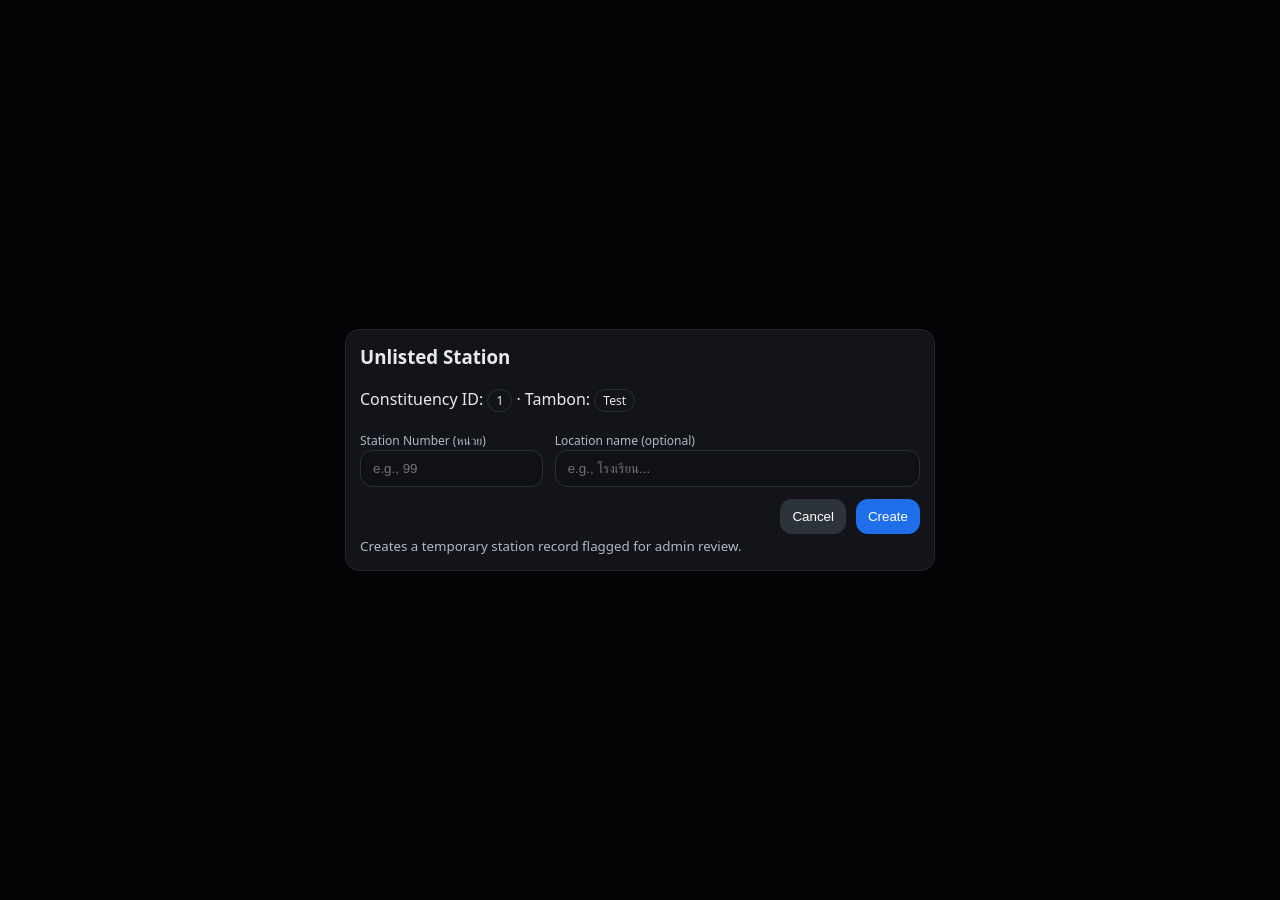
Scenario: UnlistedStationModal › should show error for invalid station number
The width and height of the screenshot is (1280, 900).
Step 1. Type "-5" into the field with placeholder "e.g., 99" → (451, 468), box [360, 450, 543, 487]
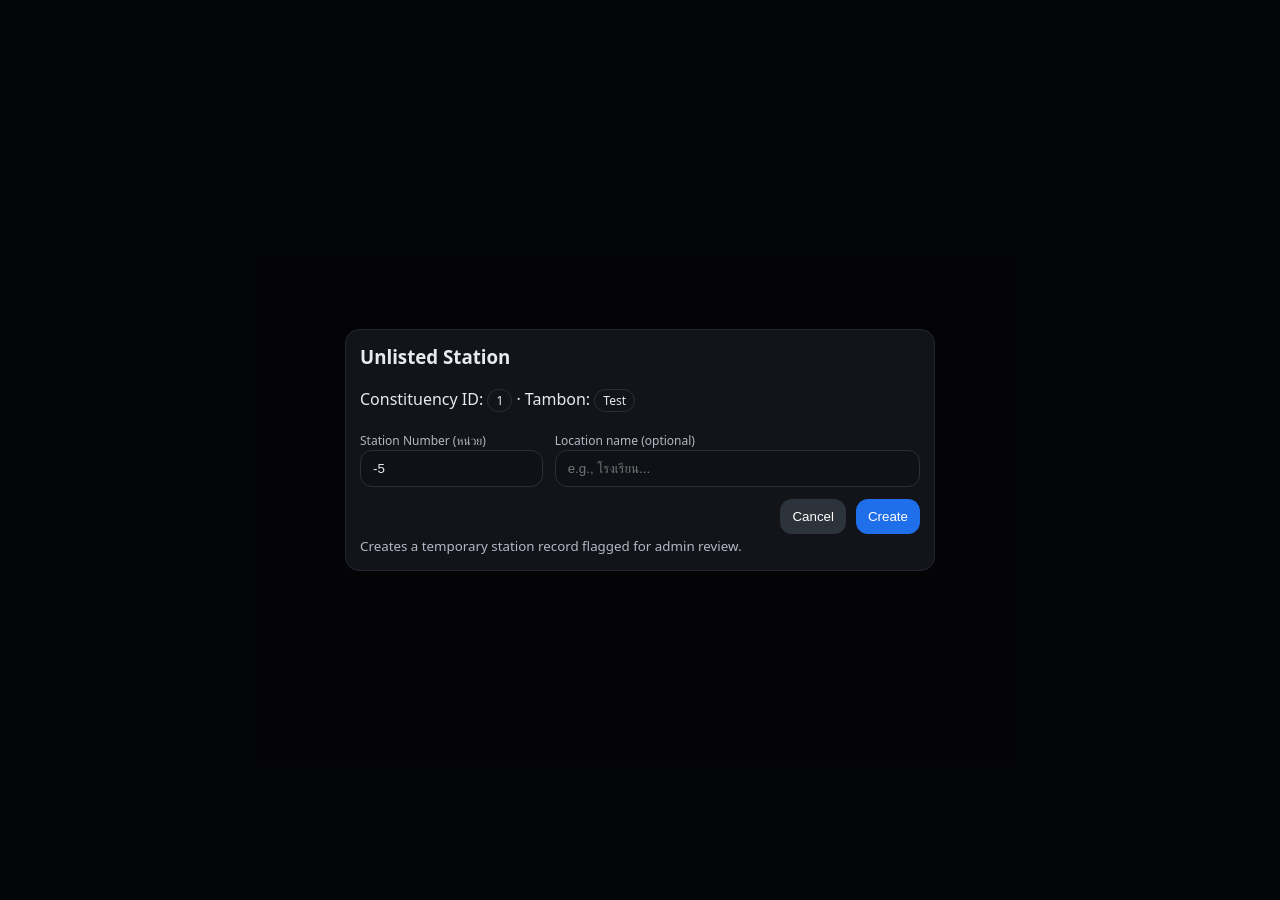
Step 2. Click the button "Create" → click(888, 516), box [856, 499, 920, 534]
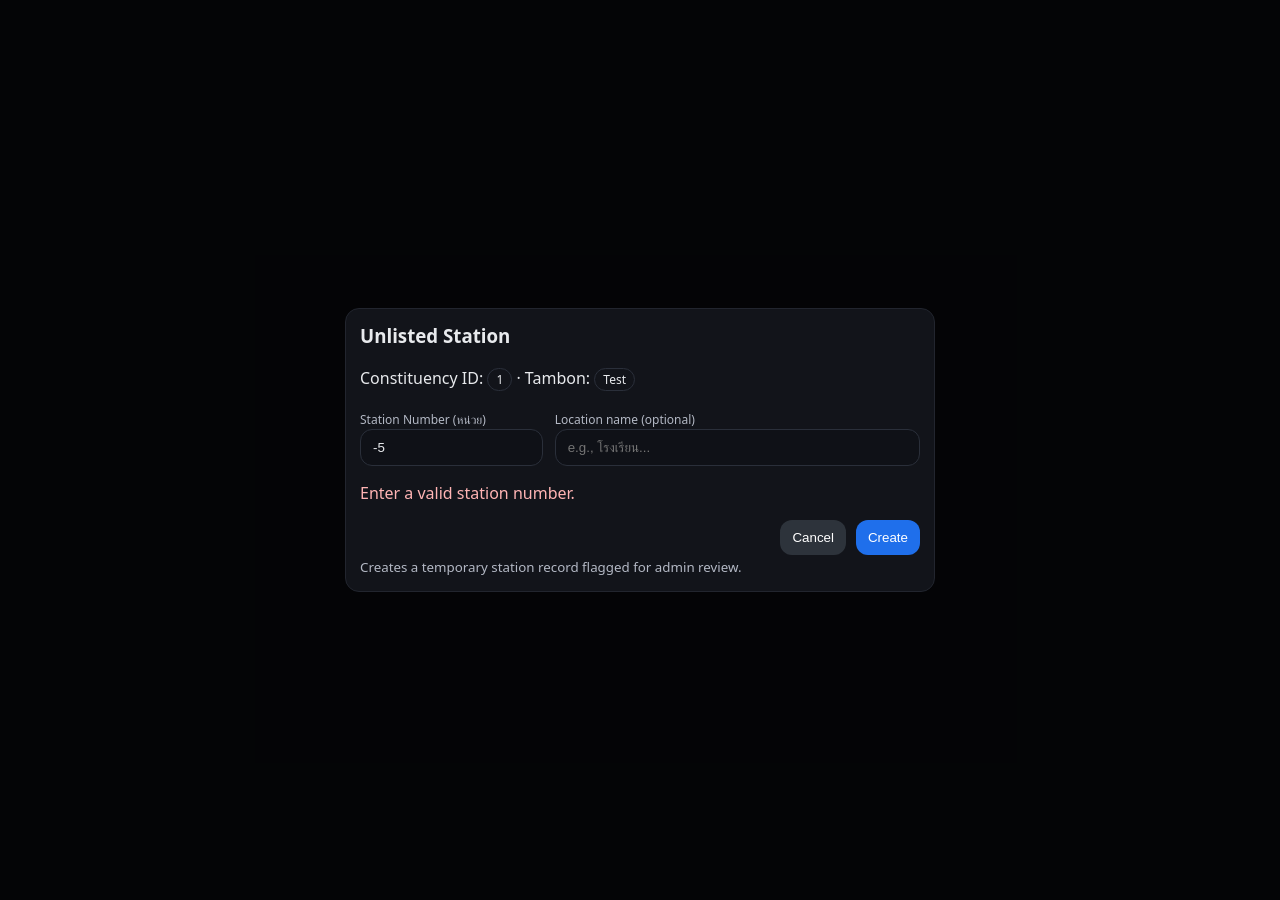
Expected: the text "Enter a valid station number." is shown, [360, 482, 575, 504]
